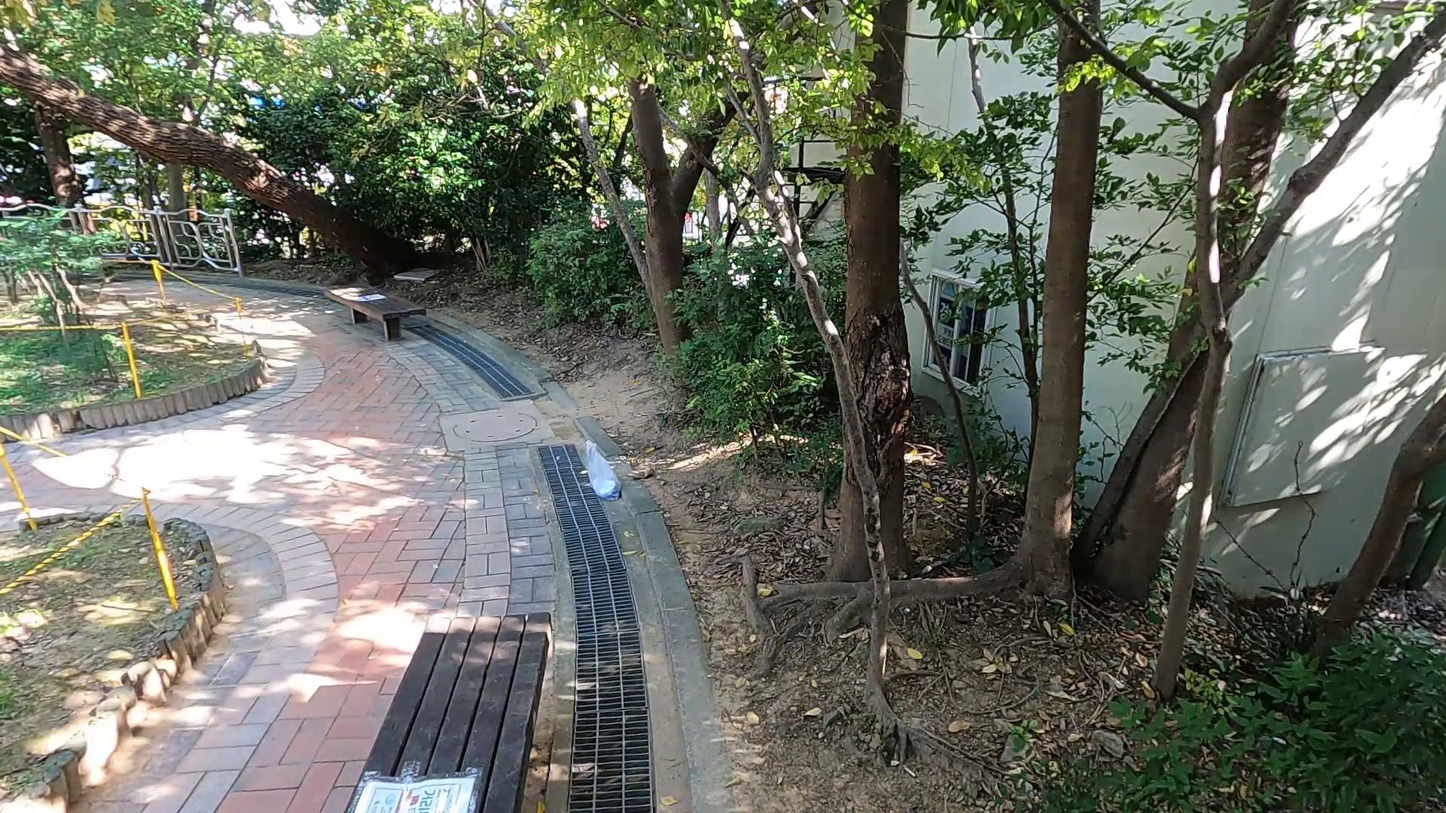trash: (584, 440, 620, 501)
